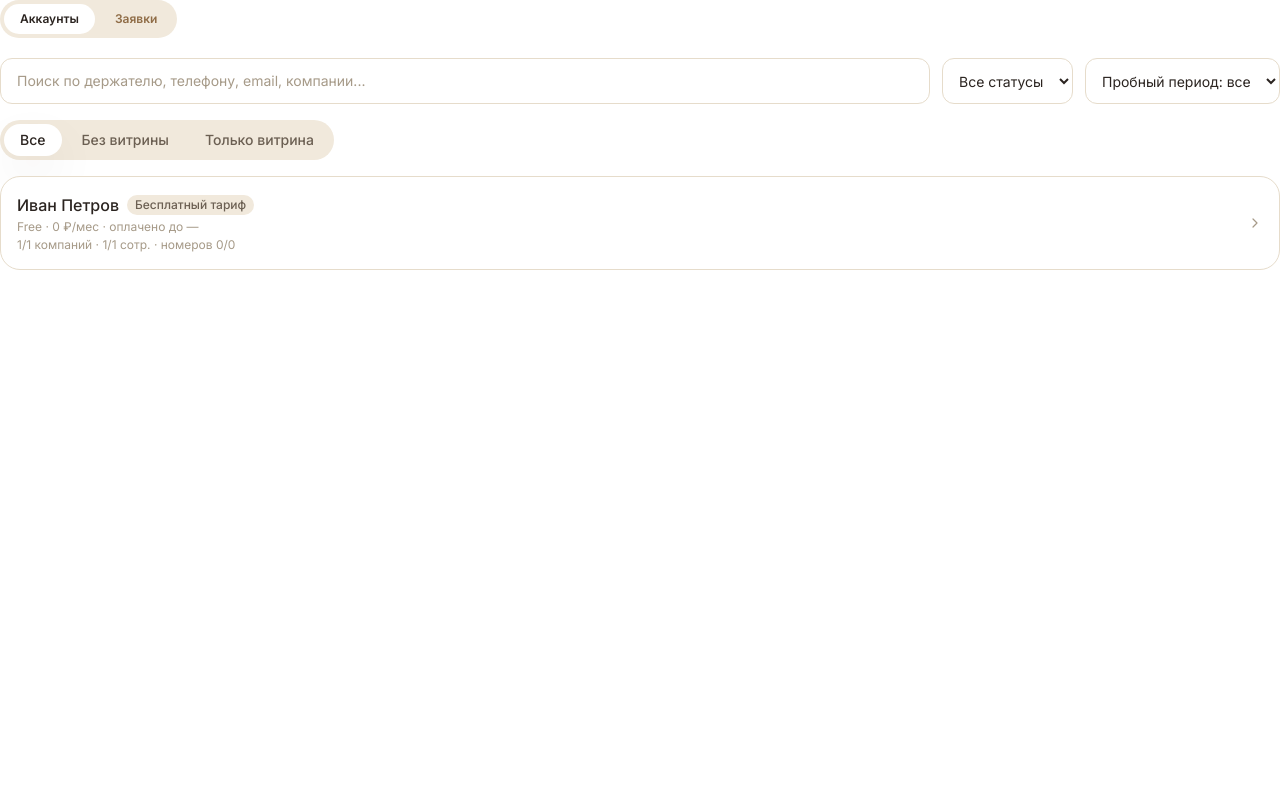
it: BillingAccountsAdminTab — manual assignment reason (US-20-02) › shows the reason block and blocks Save until a reason (only assignableManually ones) is picked, for a hidden plan different from the current one
Click the text "Иван Петров" at coordinates (68, 205), box x1=17 y1=193 x2=119 y2=217
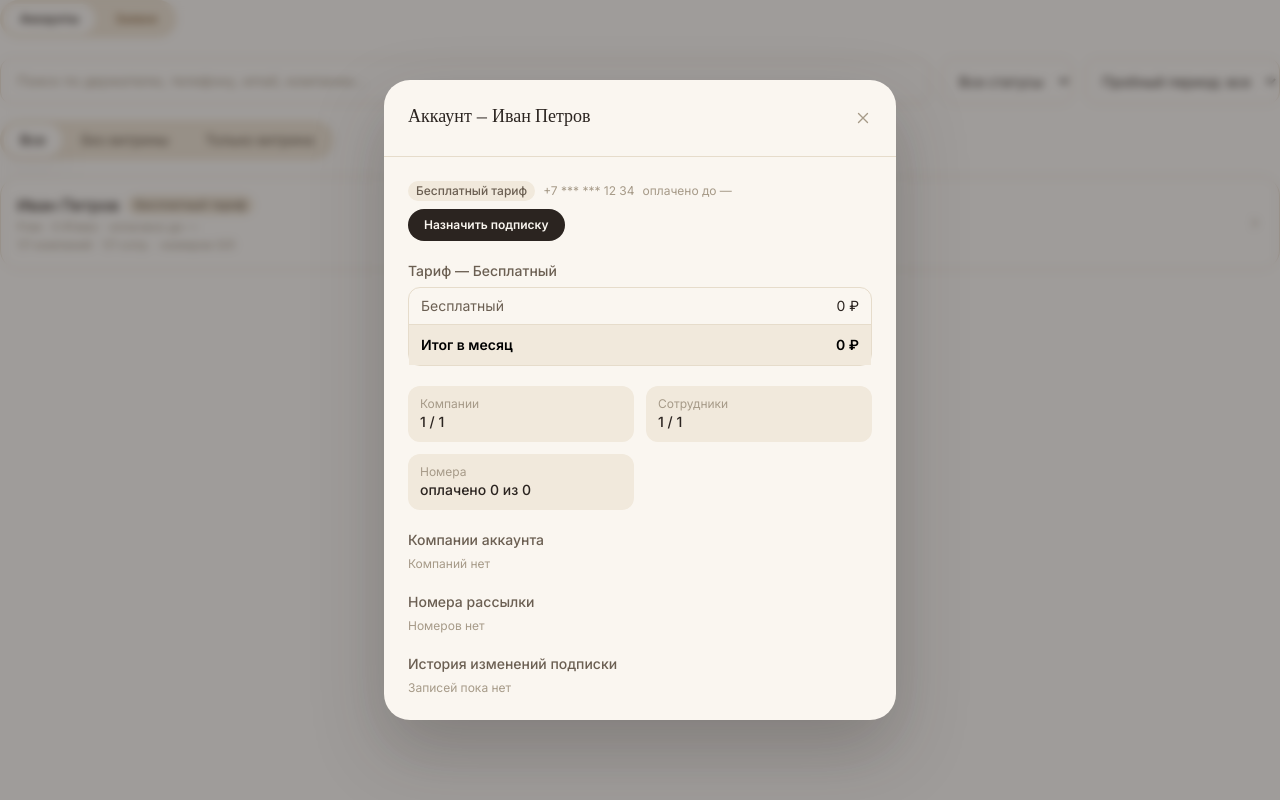
Expected: the button "Назначить подписку" is shown
Click the button "Назначить подписку" at coordinates (486, 225), box x1=408 y1=209 x2=564 y2=241
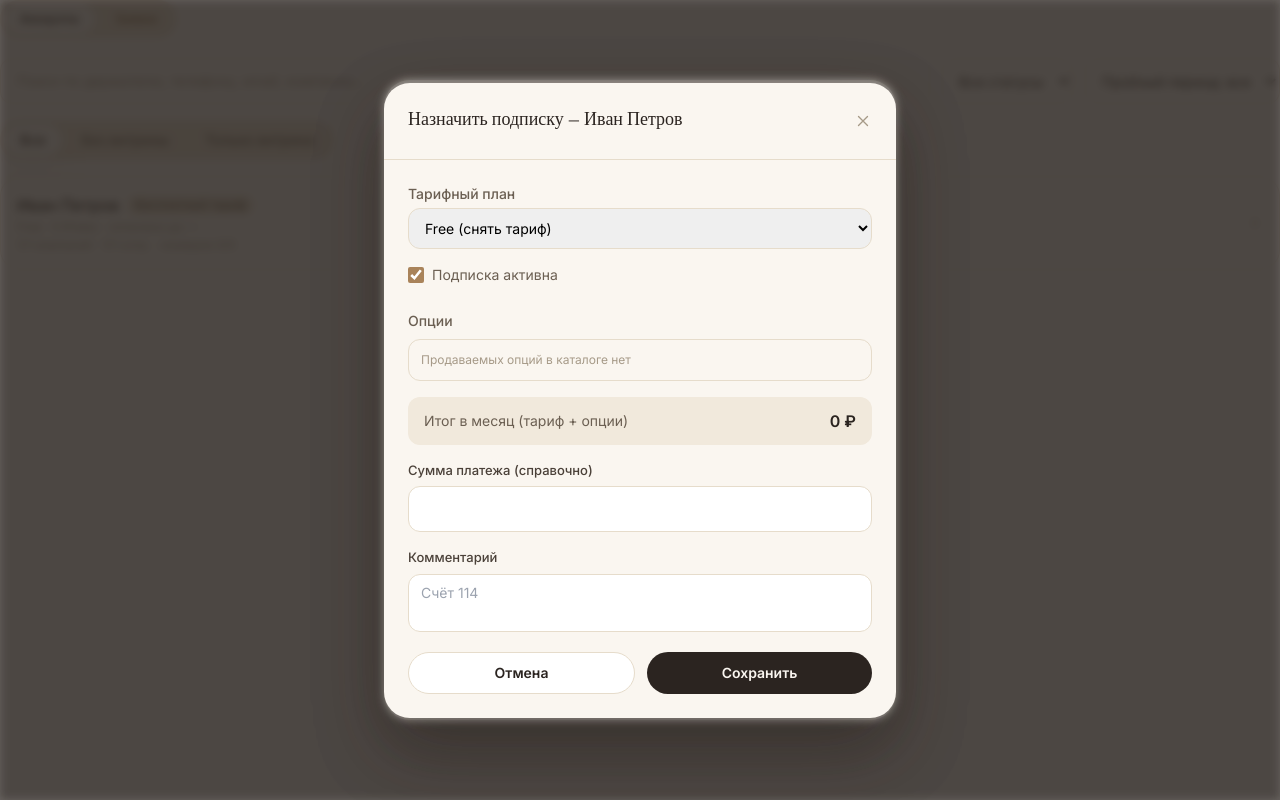
Expected: the text "Тарифный план" is shown, x1=408 y1=184 x2=515 y2=202
Select "Скрытый — 1 500 ₽/мес" in the dropdown at coordinates (640, 228), box x1=408 y1=208 x2=872 y2=248
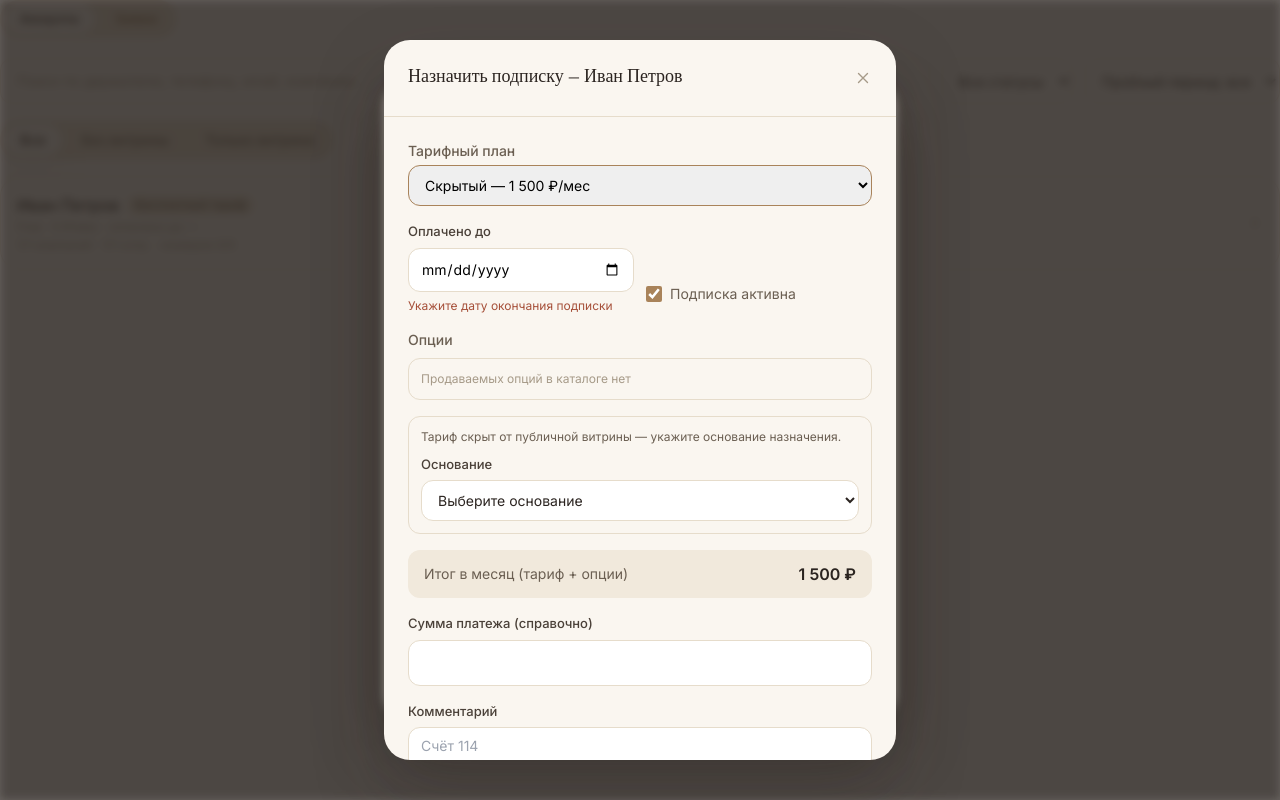
Type "2026-12-31" into the date field at coordinates (521, 270), box x1=408 y1=248 x2=634 y2=292
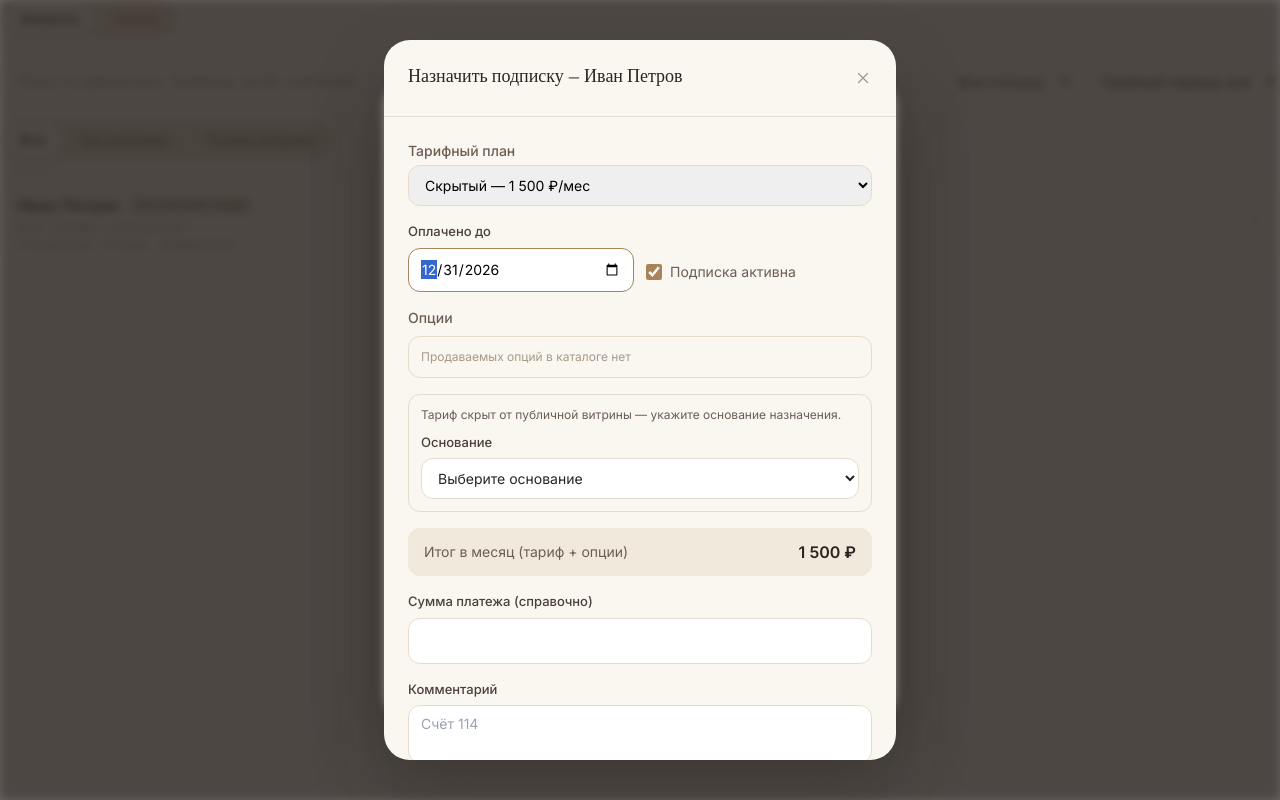
Expected: the text "Основание" is shown, x1=421 y1=434 x2=492 y2=450
Select "Исправление ошибки оператора" in the 2nd dropdown at coordinates (640, 478), box x1=421 y1=458 x2=859 y2=499
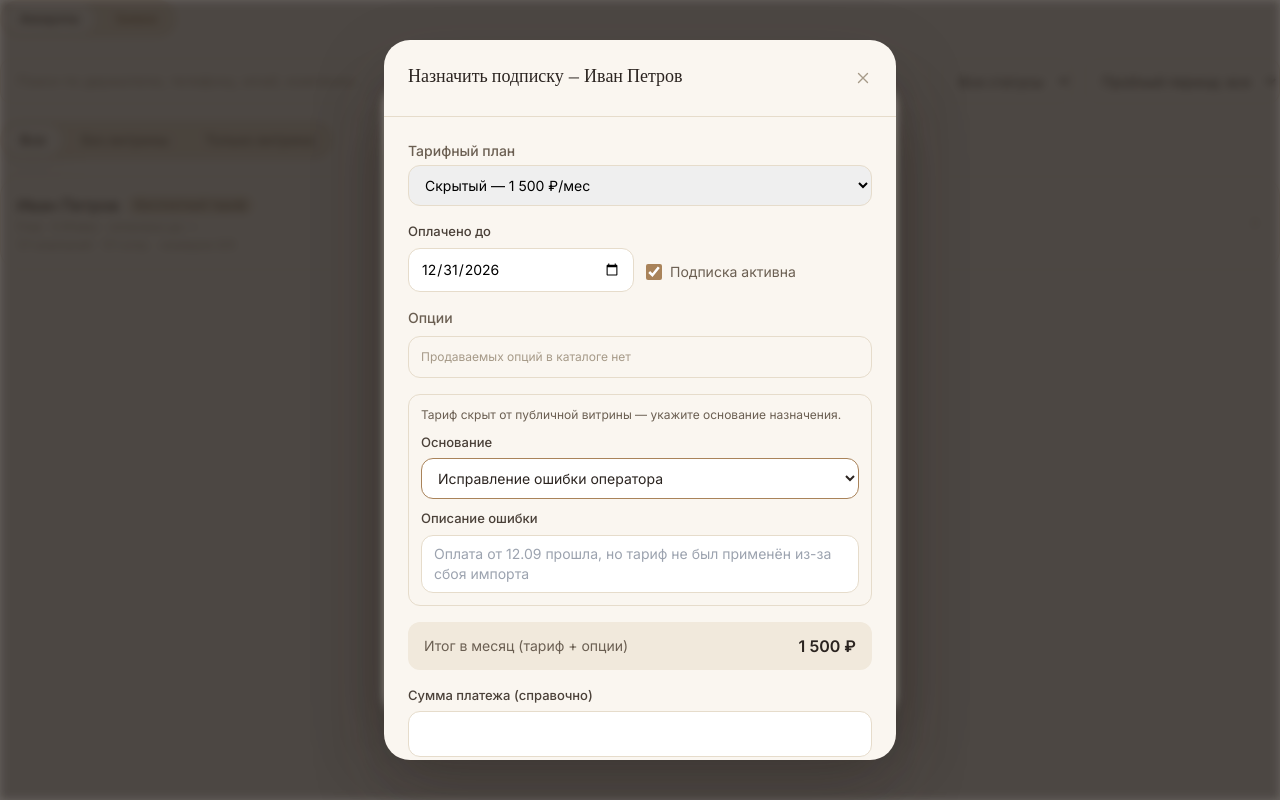
Type "Оплата прошла, тариф не применился" into the text box with placeholder "сбоя импорта" at coordinates (640, 564), box x1=421 y1=534 x2=859 y2=592
(page scrolled)
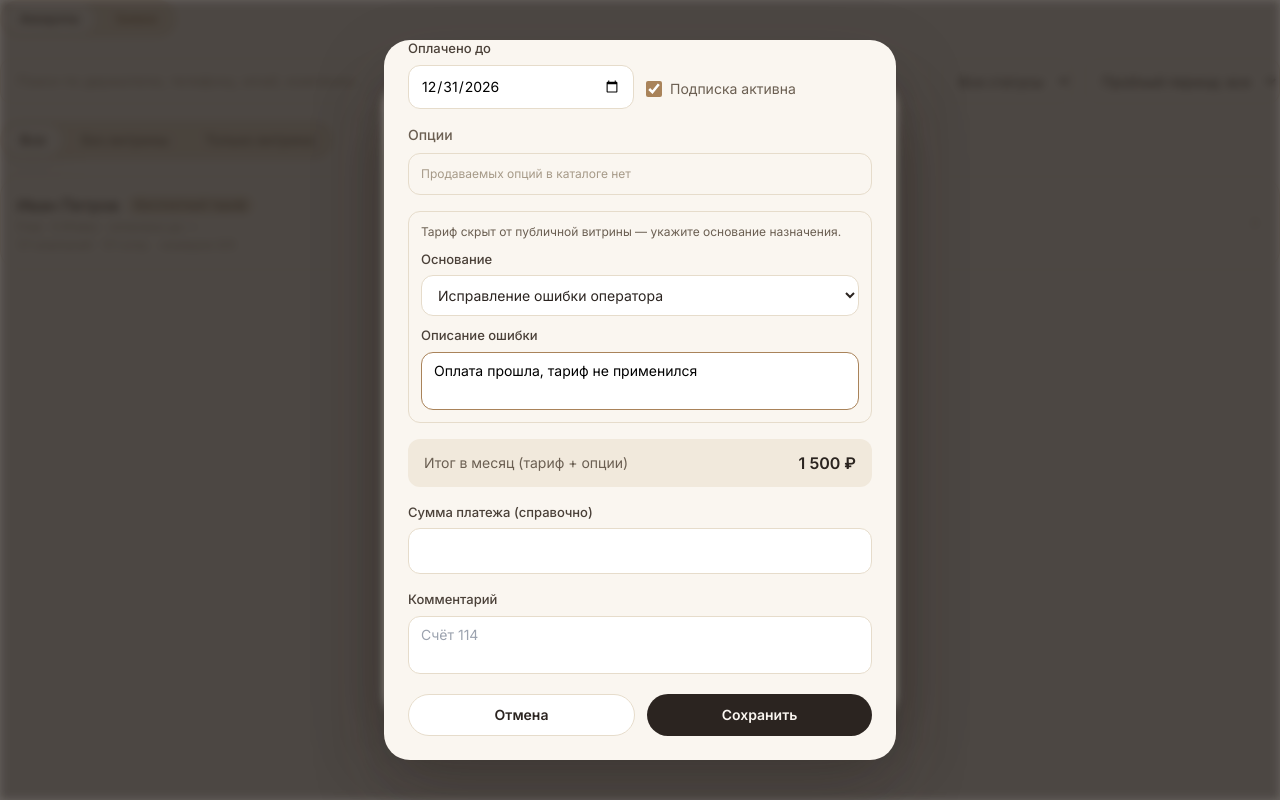
Expected: the button "Сохранить" is enabled, x1=647 y1=694 x2=872 y2=736
